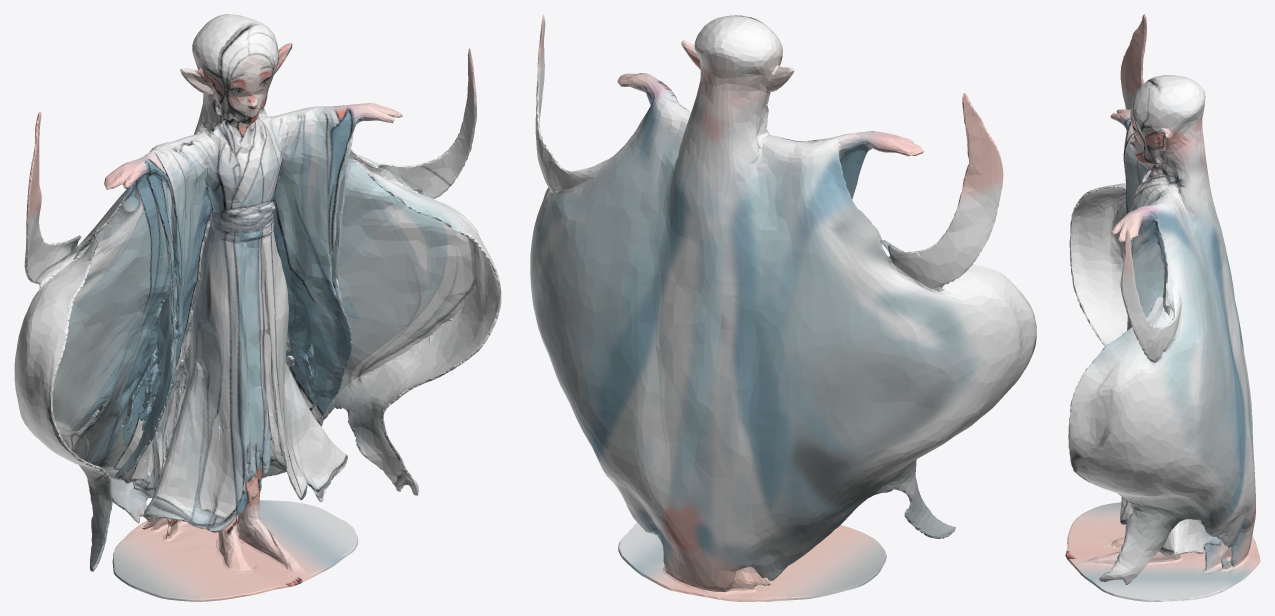
Rendered from lumen_townsperson_local.glb.
3 views of the same model, side by side, from view 1: azimuth 30°, elevation 25°; view 2: azimuth 150°, elevation 25°; view 3: azimuth 270°, elevation 25° (orthographic). The views are drawn at different scales.
Visible parts, largest first — view 1: geometry_0; view 2: geometry_0; view 3: geometry_0.
Part boxes in pixels (bbox=[...]): geometry_0: bbox=[14, 14, 501, 601]; geometry_0: bbox=[530, 14, 1036, 601]; geometry_0: bbox=[1065, 14, 1260, 601].
Bounding box in the file's own units: 1.7 × 1.85 × 0.6873.
Materials: 1 (1 with a texture image).
